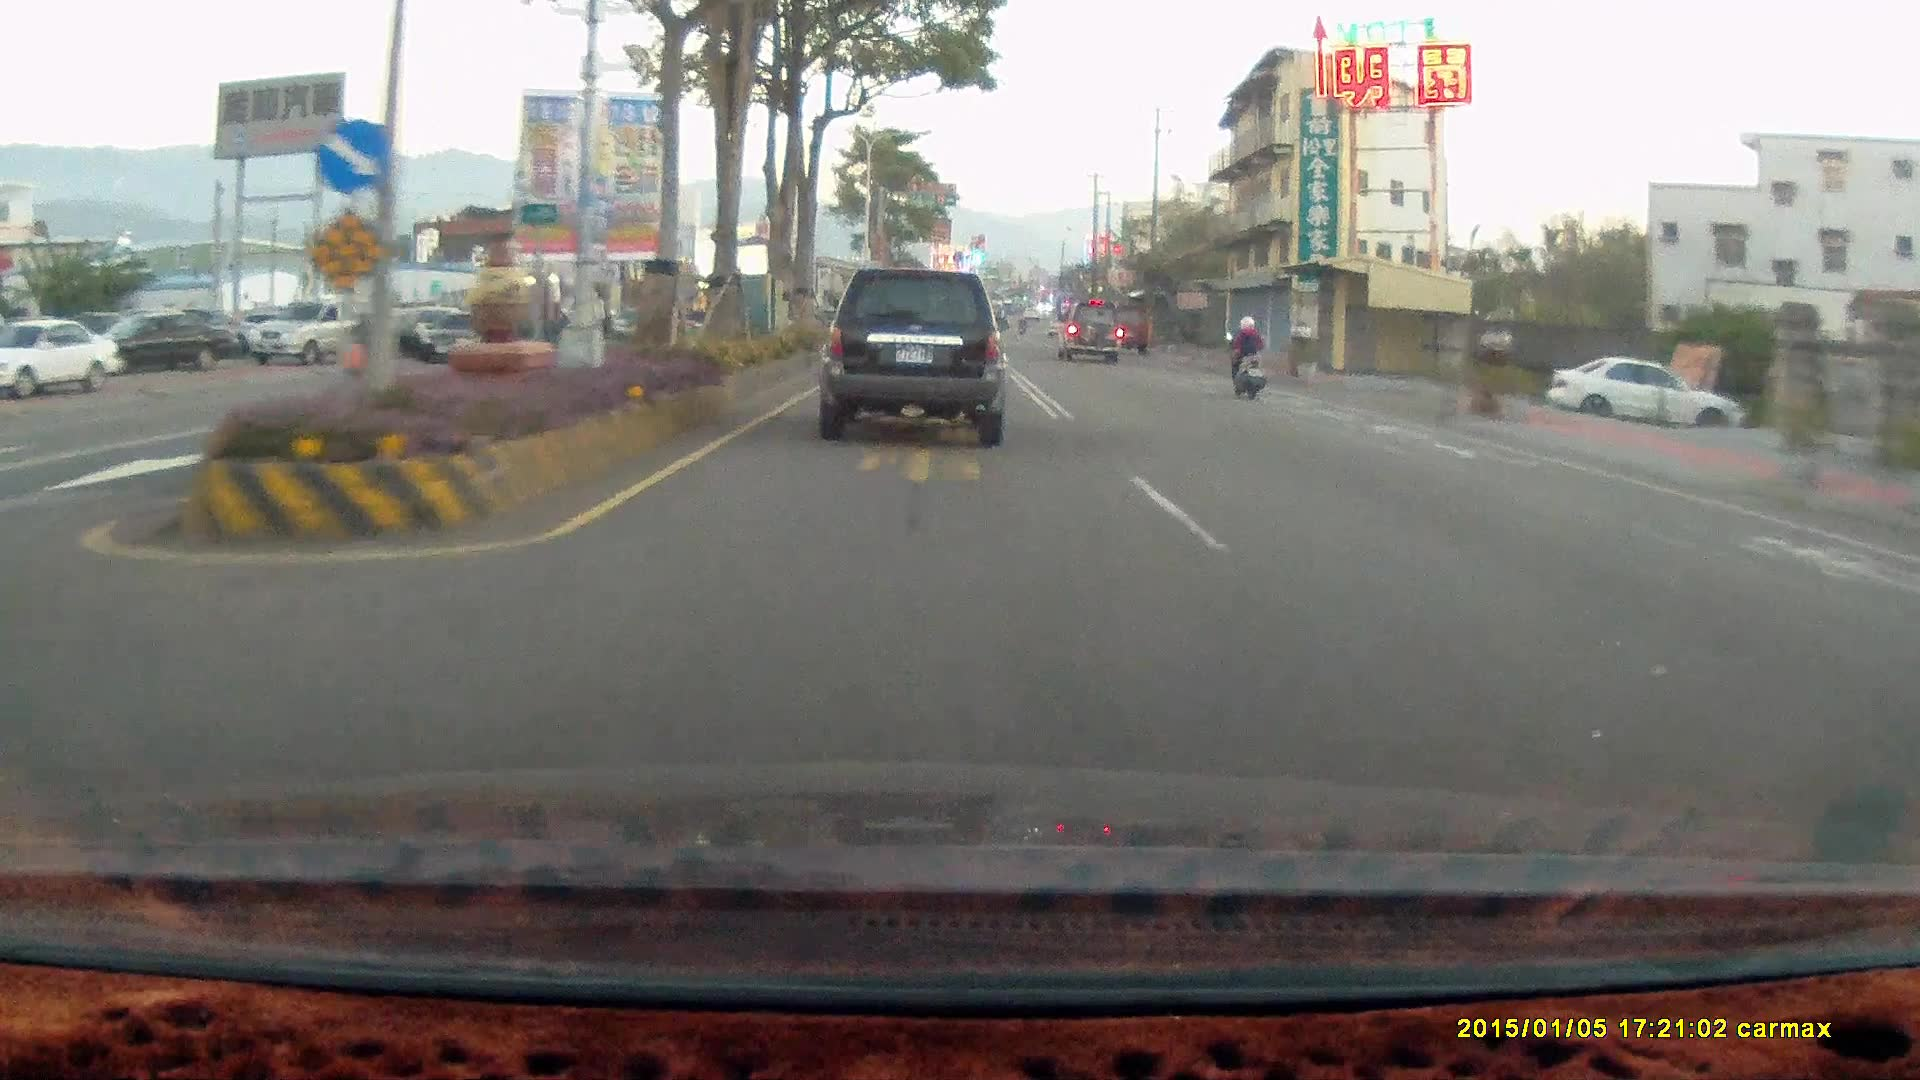rider: (1218, 307, 1278, 409), (1222, 311, 1265, 397)
vehicle: (817, 264, 1010, 444), (824, 264, 1012, 444), (1547, 354, 1745, 431), (1552, 356, 1748, 432), (79, 305, 253, 376), (75, 308, 241, 375), (1, 317, 126, 398), (1, 318, 127, 399), (250, 294, 380, 363), (418, 311, 519, 368), (418, 310, 512, 363), (1061, 294, 1124, 359), (1056, 297, 1118, 361), (1104, 299, 1151, 351)
